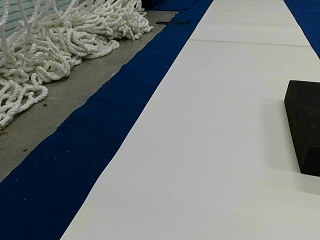block: (284, 79, 318, 176)
